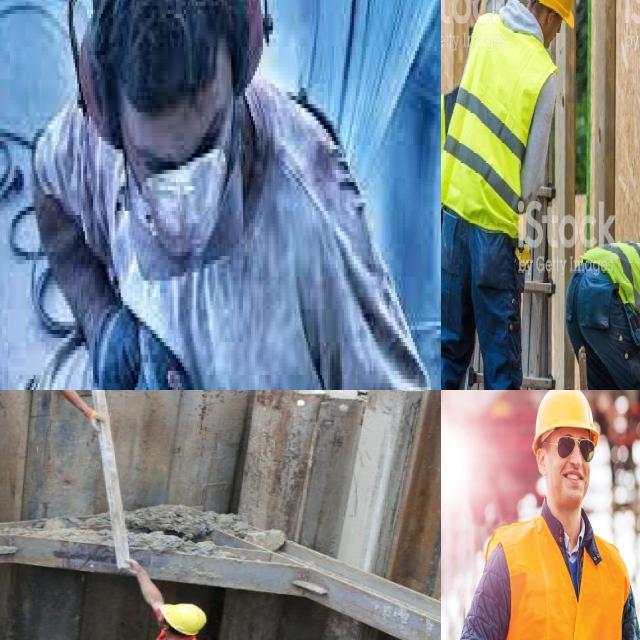Ear-protection: (66, 0, 274, 148)
face_nomask: (542, 434, 594, 507)
glasses: (552, 432, 597, 463)
hand_noglove: (79, 408, 115, 437), (112, 559, 151, 585)
head_helmet: (523, 390, 610, 449), (163, 602, 208, 640), (527, 0, 583, 24)
person: (451, 390, 640, 640), (468, 0, 574, 390), (565, 228, 640, 390), (123, 560, 222, 640), (7, 390, 104, 425)
vest: (469, 492, 640, 640), (467, 22, 534, 228), (586, 247, 640, 336)
